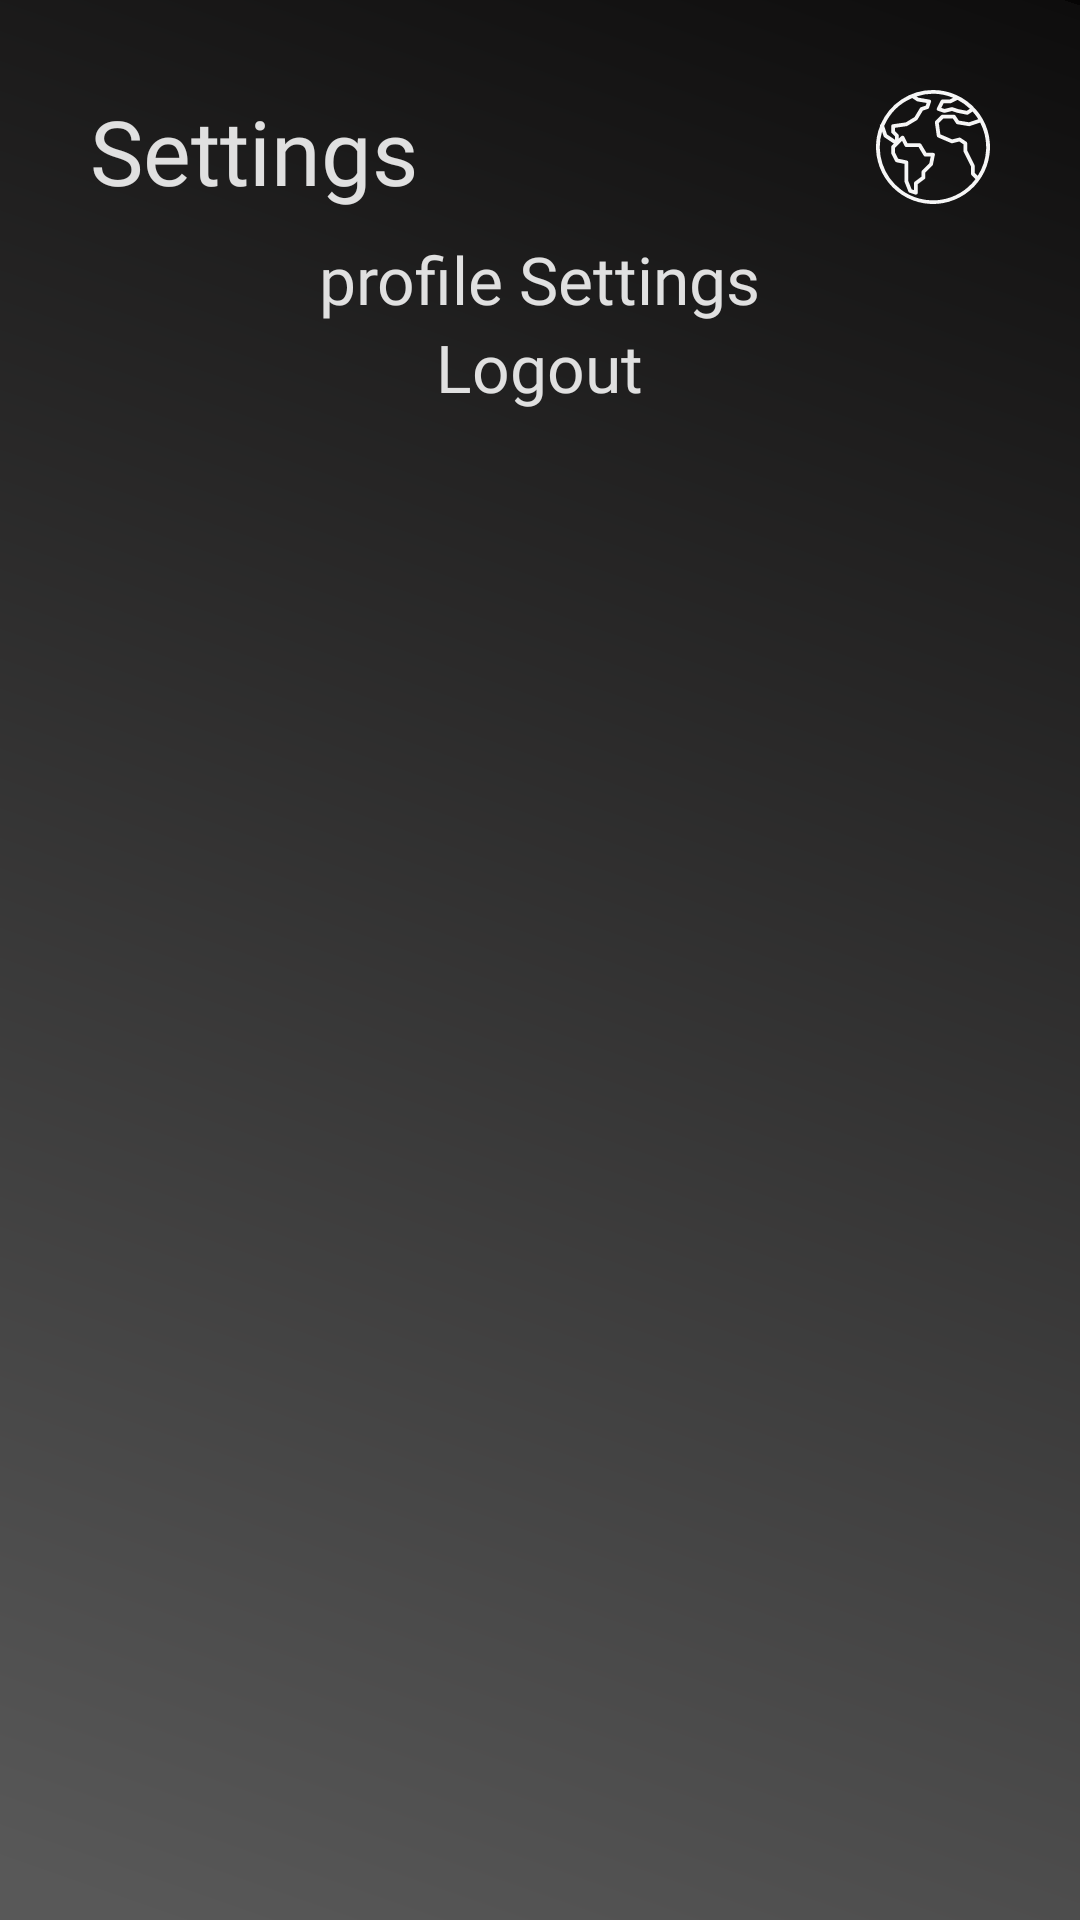

Icon bounding boxes for this 1080 x 1920 phone screenshot, format rect(x1, y1, x2, y2):
worldwide: rect(876, 90, 990, 204)
